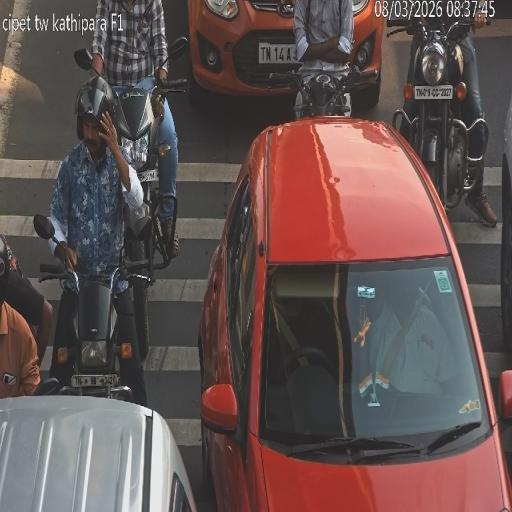person_with_seatbelt: (378, 300, 424, 386), (276, 305, 317, 381)
